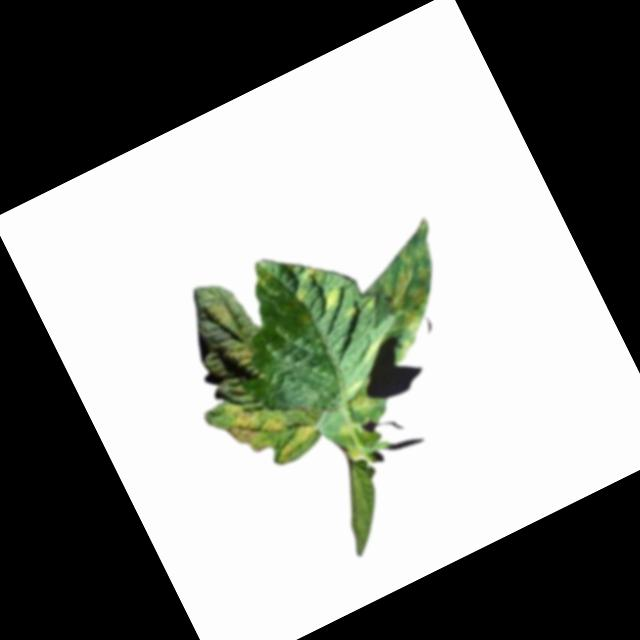Leaf_Mold: (348, 219, 478, 360), (216, 374, 321, 480), (201, 331, 264, 386), (201, 291, 243, 333), (344, 383, 383, 421), (319, 282, 351, 312)
